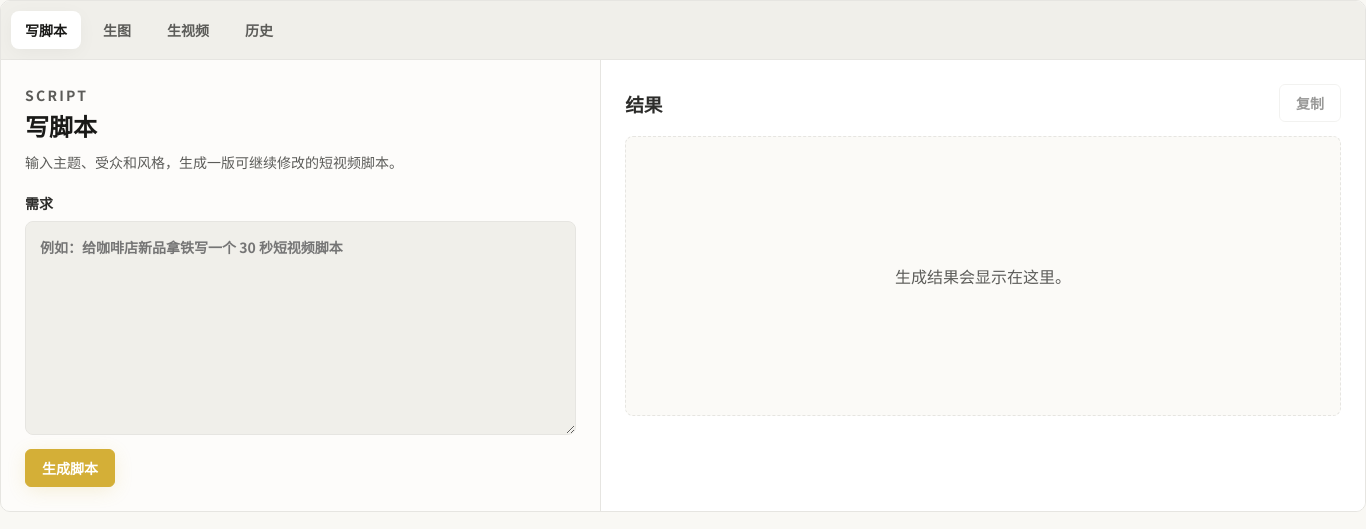
ToolTabs › notifies parent components after a generation is saved
This screenshot has width=1366, height=529.
In the text box labelled "需求": (301, 328) [25,221,576,435], type "水墨江南宣传片"
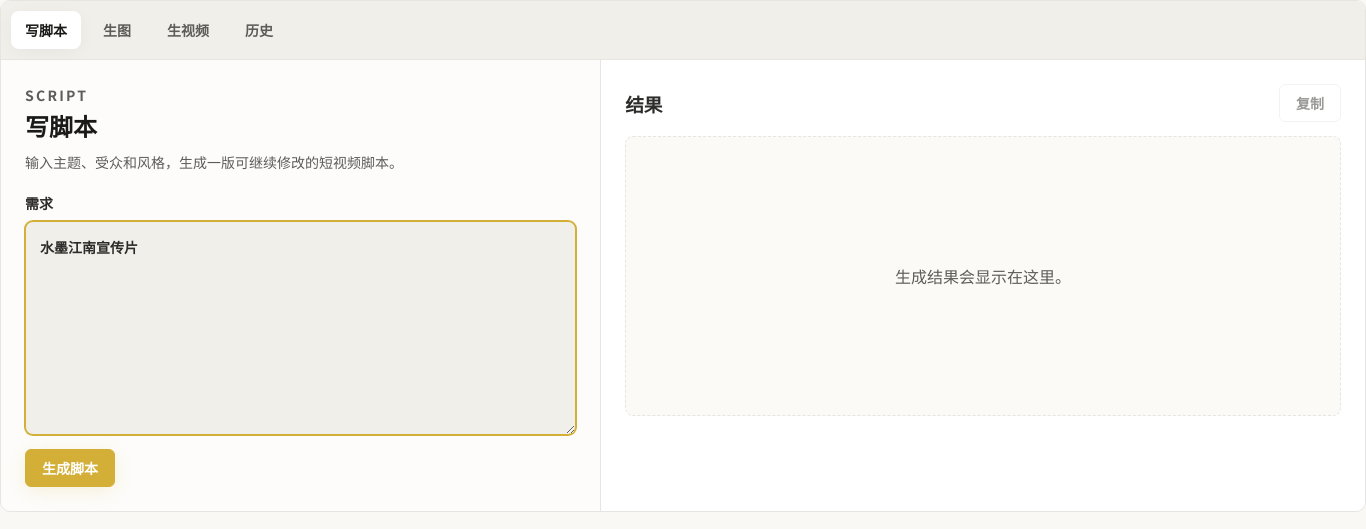
Click the button "生成脚本": (70, 468) [25,449,115,487]
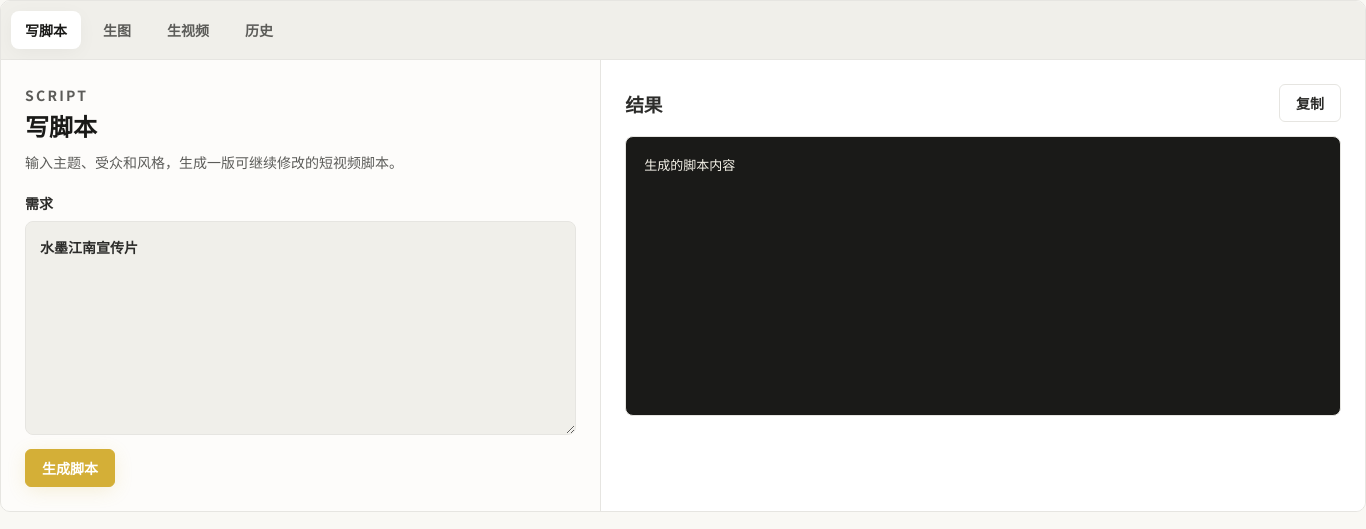
Expected: the text "生成的脚本内容" is shown, [625,136,1341,416]
